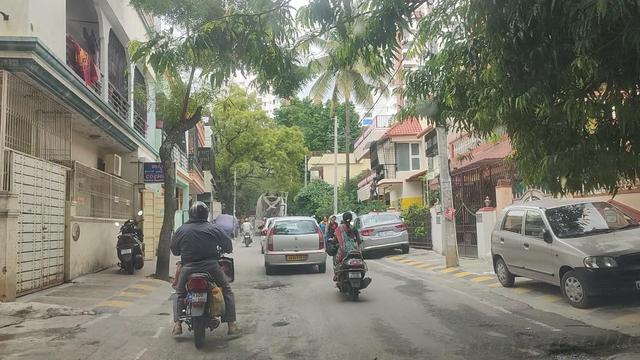LMV: (167, 196, 228, 344), (264, 216, 327, 272), (335, 212, 365, 294)
RoadDamages: (254, 279, 294, 294)
